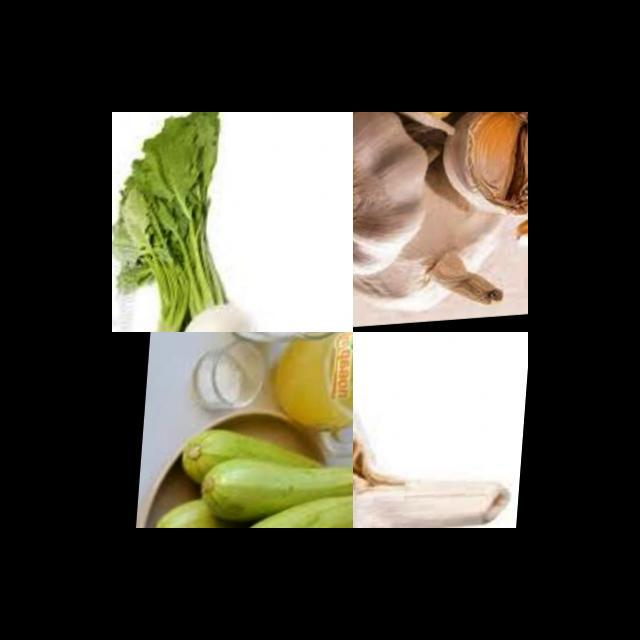garlic: (353, 332, 528, 528), (353, 172, 517, 323), (353, 112, 438, 297), (440, 112, 528, 238), (391, 112, 523, 141), (505, 200, 528, 284)
